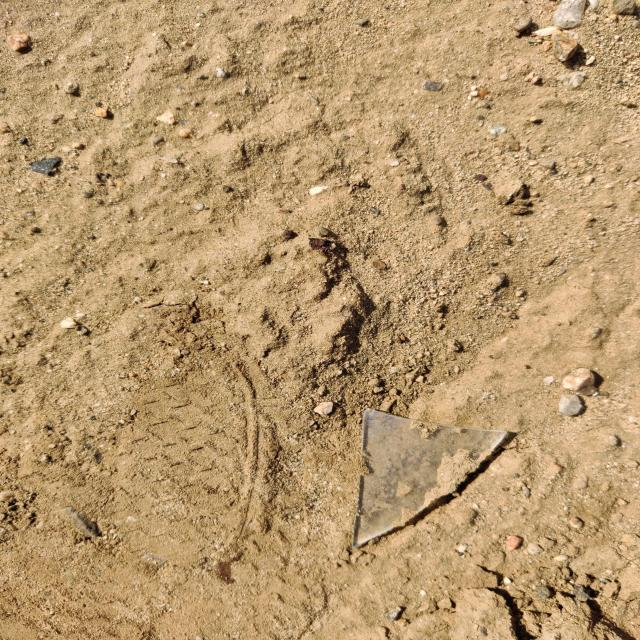litter: (354, 408, 509, 547)
